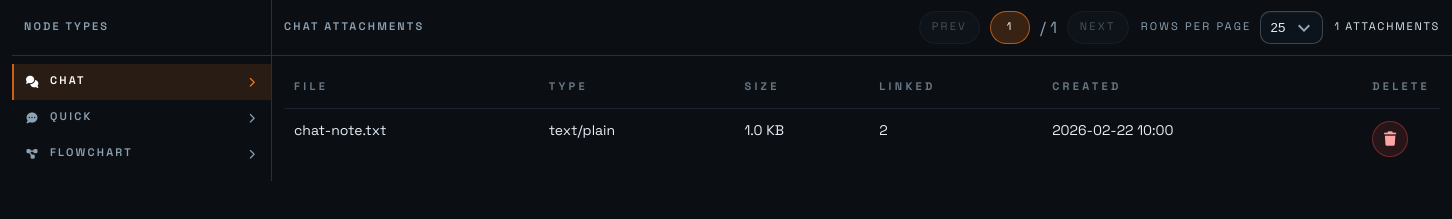
Test: AttachmentsPage › renders header pagination controls and updates params from rows-per-page
Expected: the link "chat-note.txt" is shown, [294, 122, 386, 140]
Expected: the navigation bar named "Attachments pages" is shown, [919, 10, 1129, 44]
Select "10" in the dropdown labelled "Rows per page": x=1291, y=28 [1260, 11, 1322, 44]
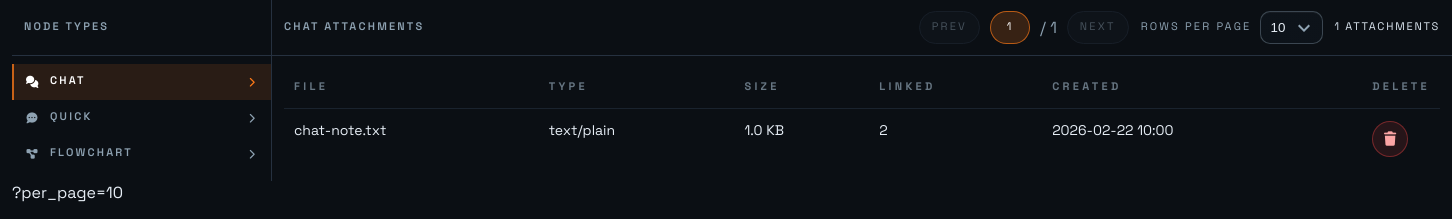
Now the text with test id "attachments-route-search" shows "per_page=10", box [12, 182, 123, 203]
